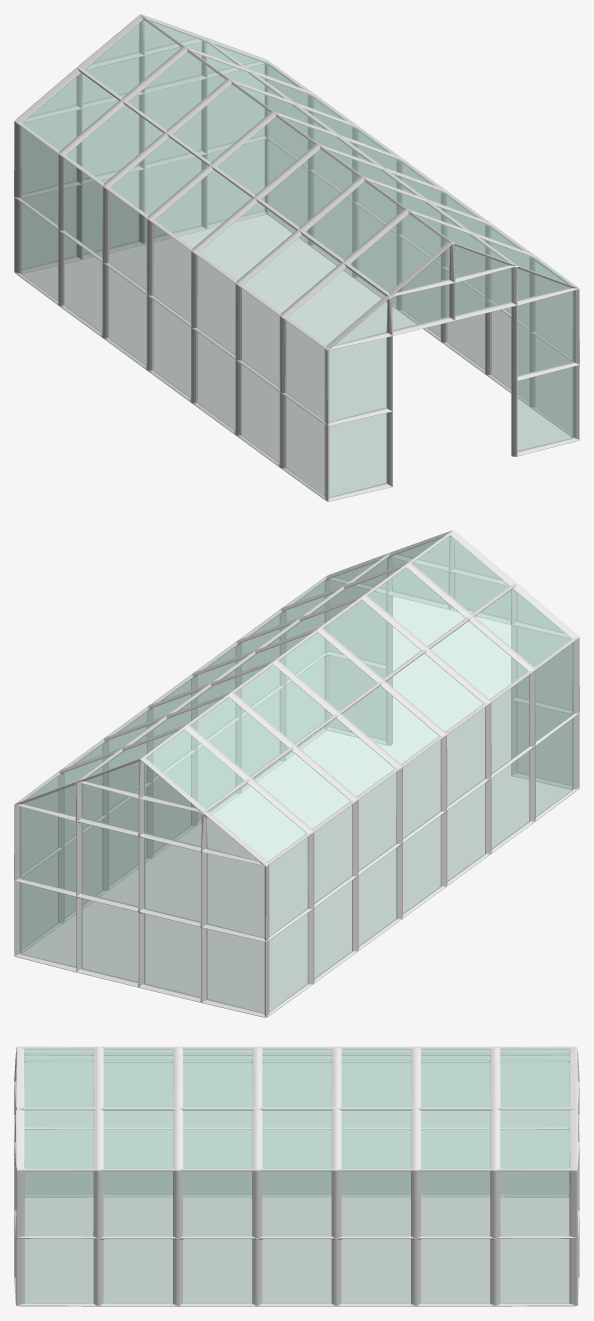
The model's file is Greenhouse.fbx.
3 views of the same model, one above another, from view 1: azimuth 30°, elevation 25°; view 2: azimuth 150°, elevation 25°; view 3: azimuth 270°, elevation 25° (orthographic). The views are drawn at different scales.
Visible parts, largest first — view 1: Greenhouse; view 2: Greenhouse; view 3: Greenhouse.
Boxes of the visible parts, left/top/right/bottom form: Greenhouse: left=14, top=14, right=579, bottom=501; Greenhouse: left=14, top=530, right=579, bottom=1017; Greenhouse: left=14, top=1046, right=579, bottom=1306.
Size of the model in its own units: 675 by 582 by 1453.
